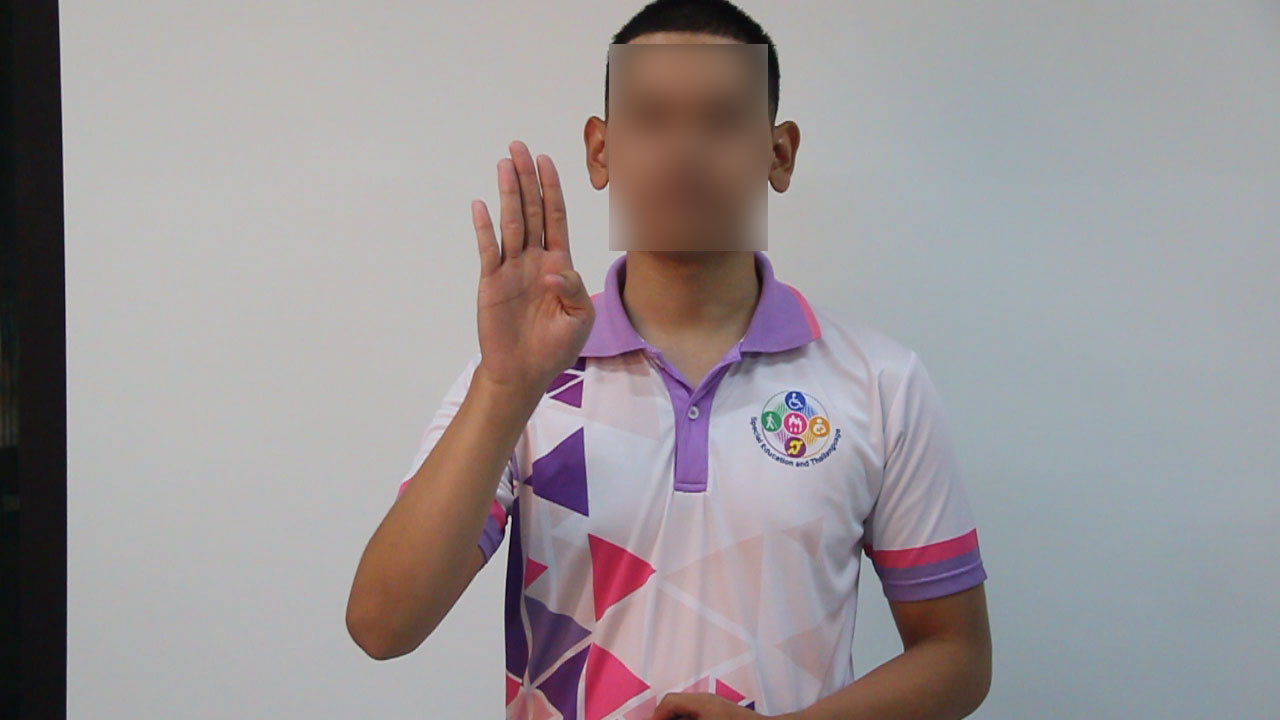bor: (451, 121, 613, 422)
